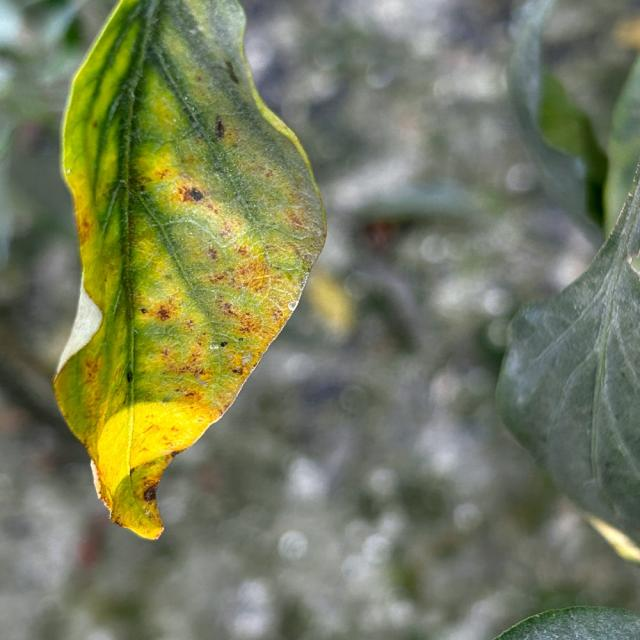Chilli_Bacterial_Spot: (50, 1, 330, 542), (126, 171, 280, 409), (229, 258, 275, 298), (137, 298, 179, 326), (282, 205, 311, 236), (175, 182, 208, 208), (80, 352, 102, 388), (151, 302, 176, 325), (139, 480, 161, 506), (210, 113, 228, 143), (202, 242, 223, 266)
